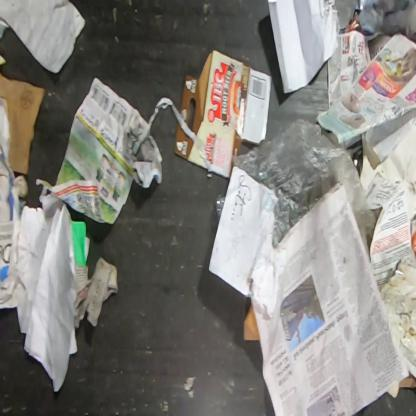cardboard: (179, 48, 272, 178), (0, 71, 46, 176), (174, 121, 209, 171), (242, 296, 260, 340), (399, 370, 415, 389)
soft_plastic: (233, 116, 378, 253), (215, 194, 226, 220)
